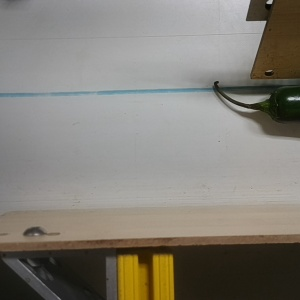Cut Point: (255, 86, 294, 126)
